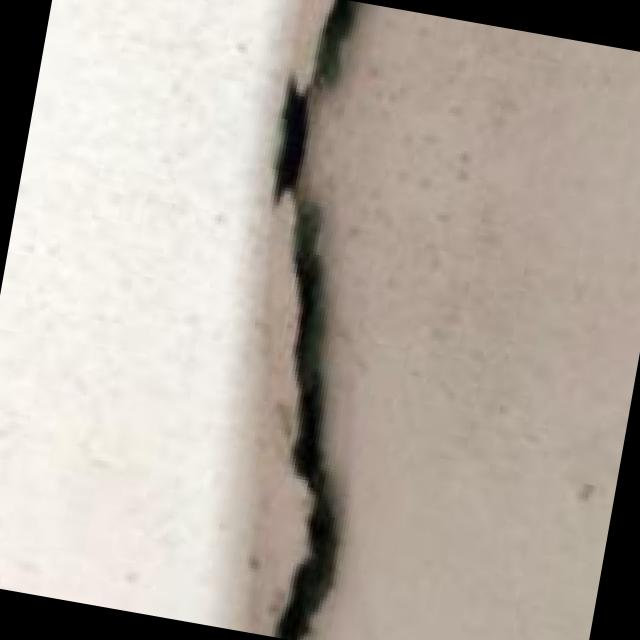crack: (138, 0, 476, 640)
